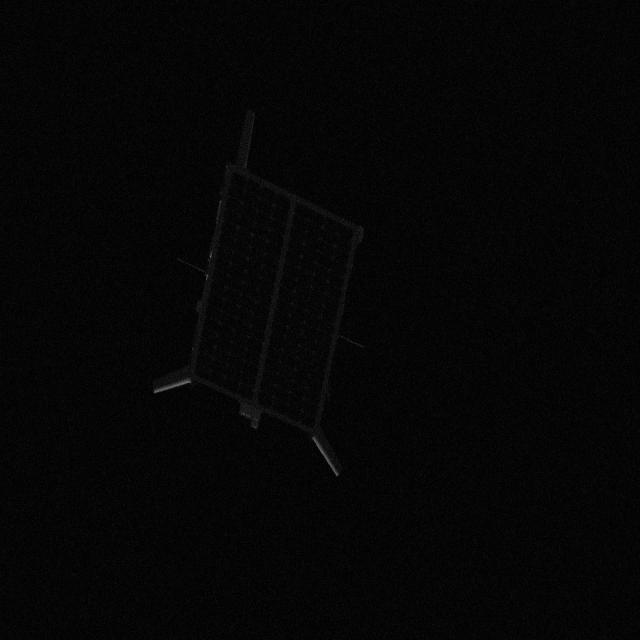medium_debris: (146, 104, 374, 490)
